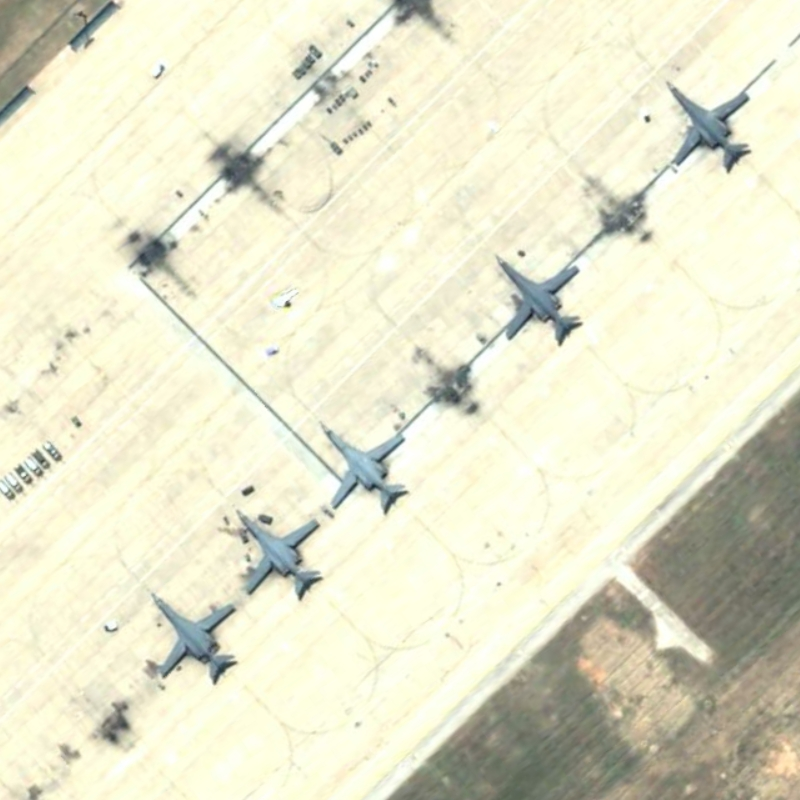A10: (138, 581, 252, 691), (480, 248, 595, 355), (659, 74, 765, 184), (309, 420, 416, 522), (233, 500, 326, 605)
